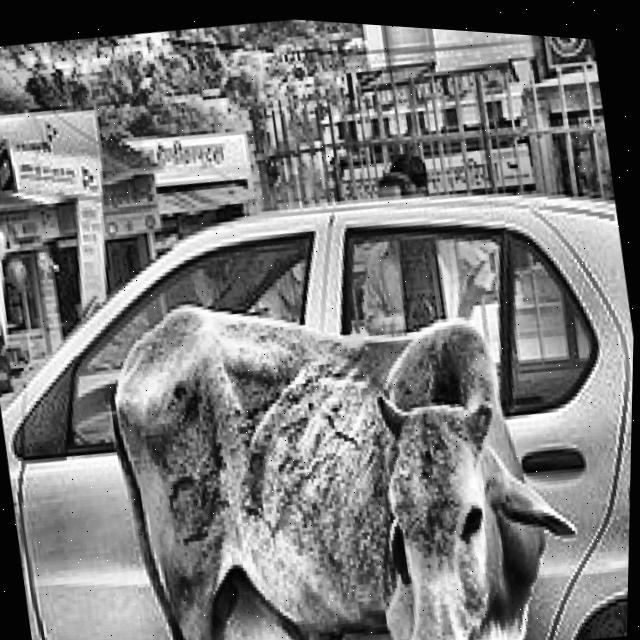light_vehicle: (0, 141, 638, 640)
